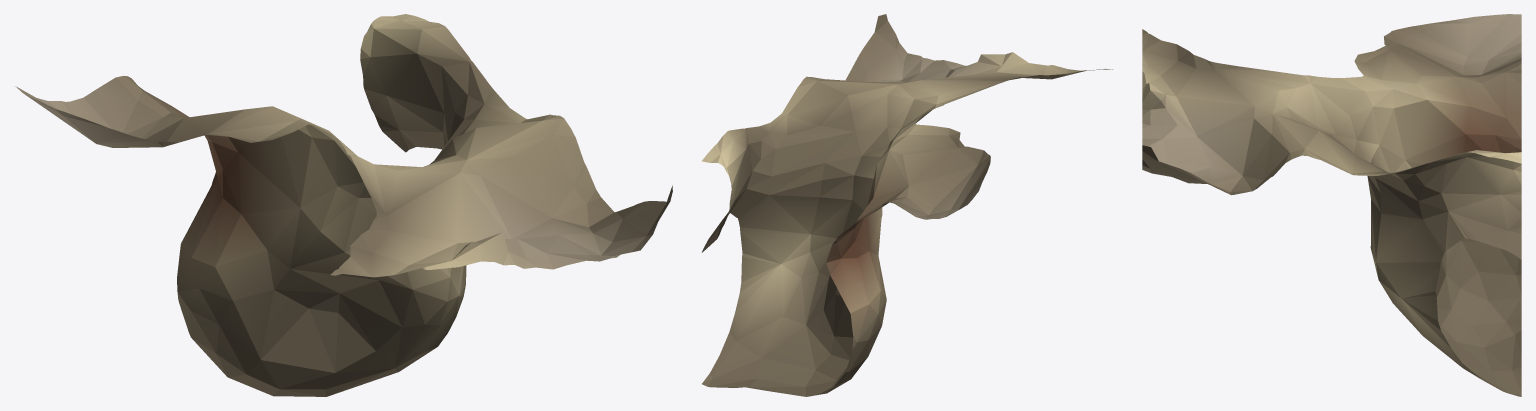
Rendered from bisect-1-5-5.gltf.
3 renders of one model, left to right at view 1: azimuth 30°, elevation 25°; view 2: azimuth 150°, elevation 25°; view 3: azimuth 270°, elevation 25°, orthographic. The views are drawn at different scales.
Visible parts, largest first — view 1: bisect-1-5-5; view 2: bisect-1-5-5; view 3: bisect-1-5-5.
Part boxes in pixels (box(x1,y1,x2,y2)): bisect-1-5-5: box(15, 14, 672, 396); bisect-1-5-5: box(701, 14, 1112, 396); bisect-1-5-5: box(1142, 14, 1521, 396).
Bounding box in the file's own units: 16.62 × 14.61 × 20.
